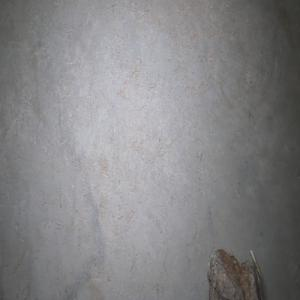Rock: (206, 248, 262, 300)
